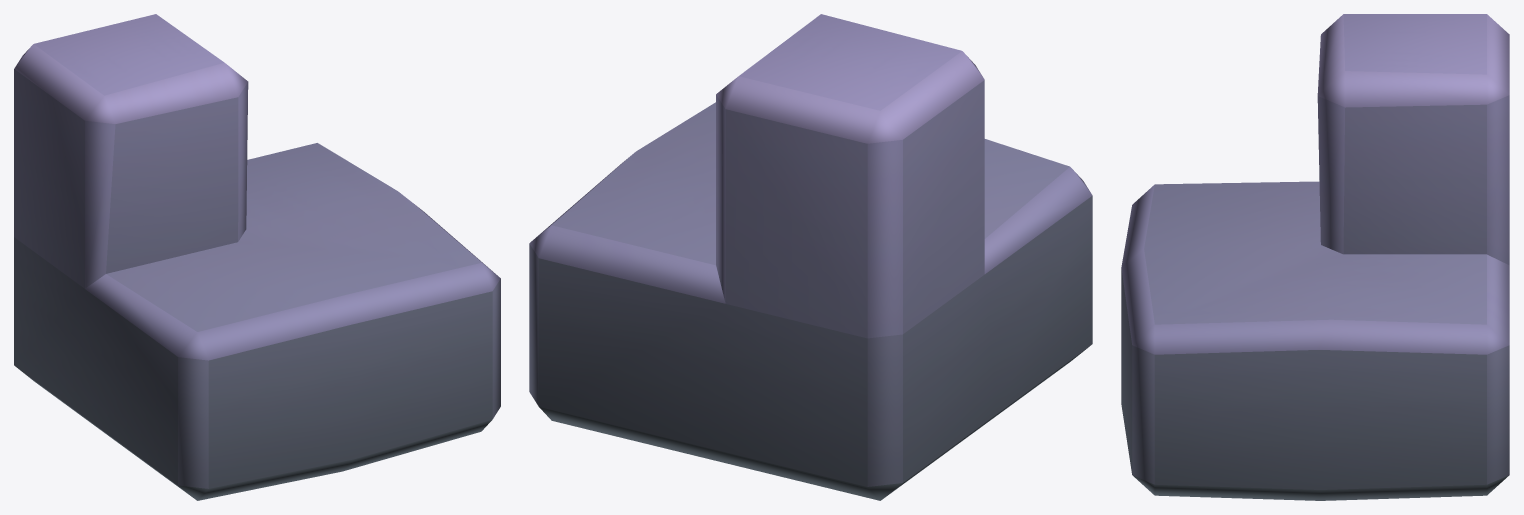
File: undead_stair_corner_conv_shade_1.fbx
3 views of the same model, side by side, from view 1: azimuth 30°, elevation 25°; view 2: azimuth 150°, elevation 25°; view 3: azimuth 270°, elevation 25° (orthographic). The views are drawn at different scales.
Visible parts, largest first — view 1: undead_stair_corner_conv_shade_1; view 2: undead_stair_corner_conv_shade_1; view 3: undead_stair_corner_conv_shade_1.
Part boxes in pixels (<box>): undead_stair_corner_conv_shade_1: <box>14,14,500,500</box>; undead_stair_corner_conv_shade_1: <box>529,14,1092,500</box>; undead_stair_corner_conv_shade_1: <box>1121,14,1509,500</box>.
Size of the model in its own units: 0.5088 by 0.5069 by 0.5143.
